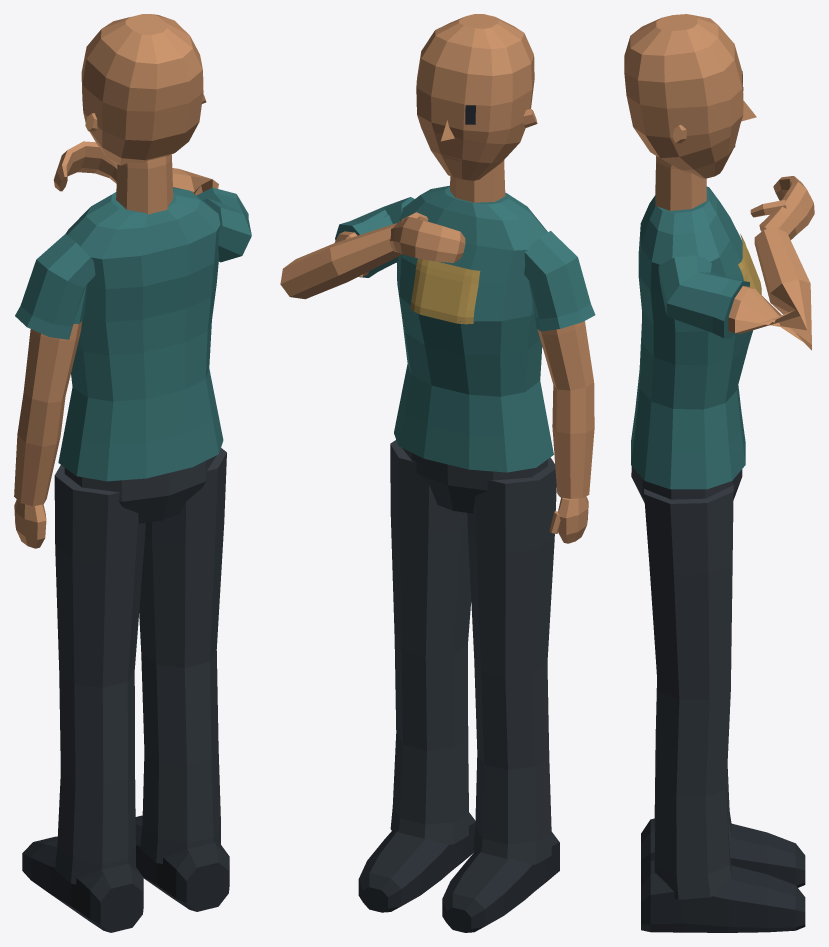
Rendered from lwf_attendee_female_drinking_soft_v2.glb.
3 renders of one model, left to right at view 1: azimuth 30°, elevation 25°; view 2: azimuth 150°, elevation 25°; view 3: azimuth 270°, elevation 25°, orthographic. The views are drawn at different scales.
Visible parts, largest first — view 1: Attendee_female_drinking_soft_v6; view 2: Attendee_female_drinking_soft_v6; view 3: Attendee_female_drinking_soft_v6.
Boxes of the visible parts, x1,y1,x2,y2 form: Attendee_female_drinking_soft_v6: [14, 14, 251, 932]; Attendee_female_drinking_soft_v6: [280, 14, 595, 932]; Attendee_female_drinking_soft_v6: [624, 14, 814, 932].
Size of the model in its own units: 0.5046 by 1.66 by 0.3236.
1 material, 1 textured.
